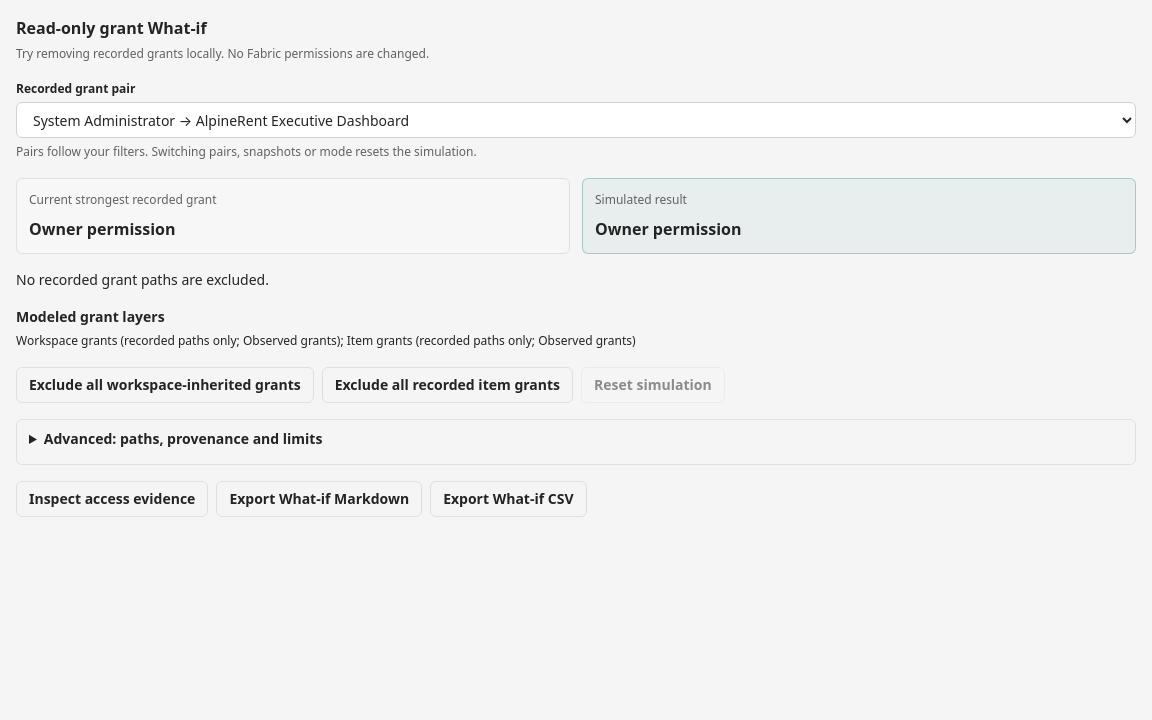
Test case: read-only grant What-if UI › shows strongest grants and modeled layers first, keeping detailed paths collapsed
The width and height of the screenshot is (1152, 720).
Expected: the text "Current strongest recorded grant" is shown, top-left (29, 191), bottom-right (217, 208)
Expected: the text "Simulated result" is shown, top-left (595, 191), bottom-right (687, 208)
Click the heading "Advanced: paths, provenance and limits": (183, 438) top-left (44, 429), bottom-right (322, 448)
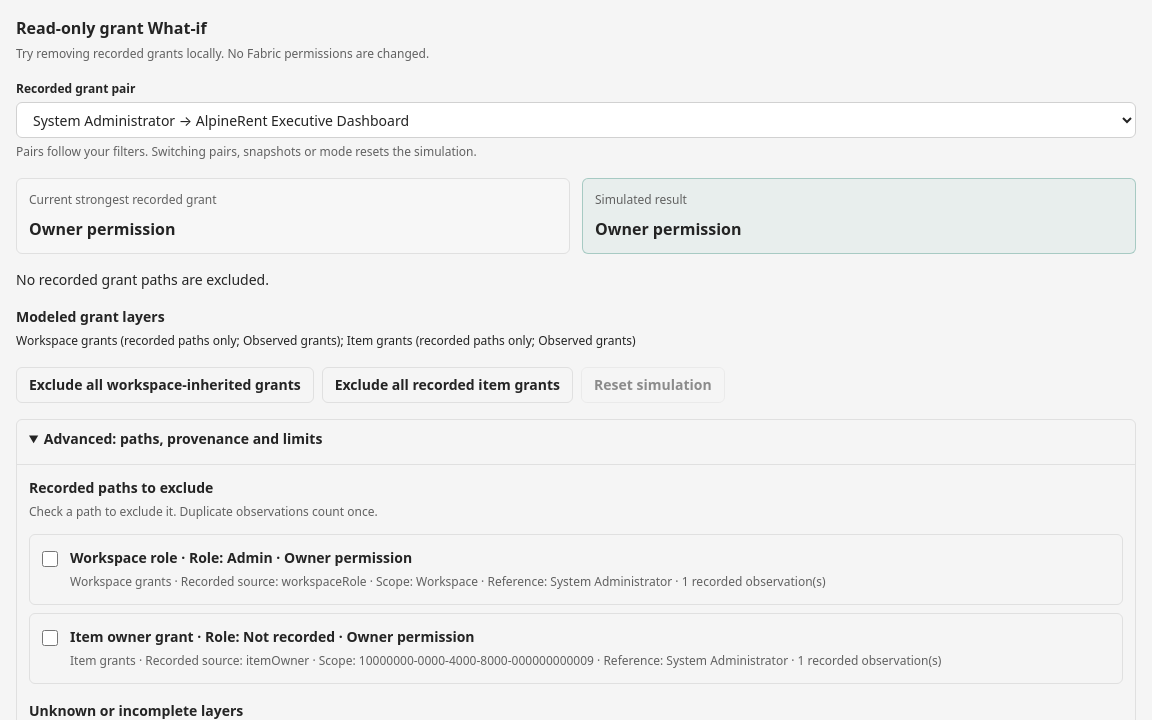
Now the checkbox labelled "Item grants" is shown, box top-left (42, 630), bottom-right (58, 646)
